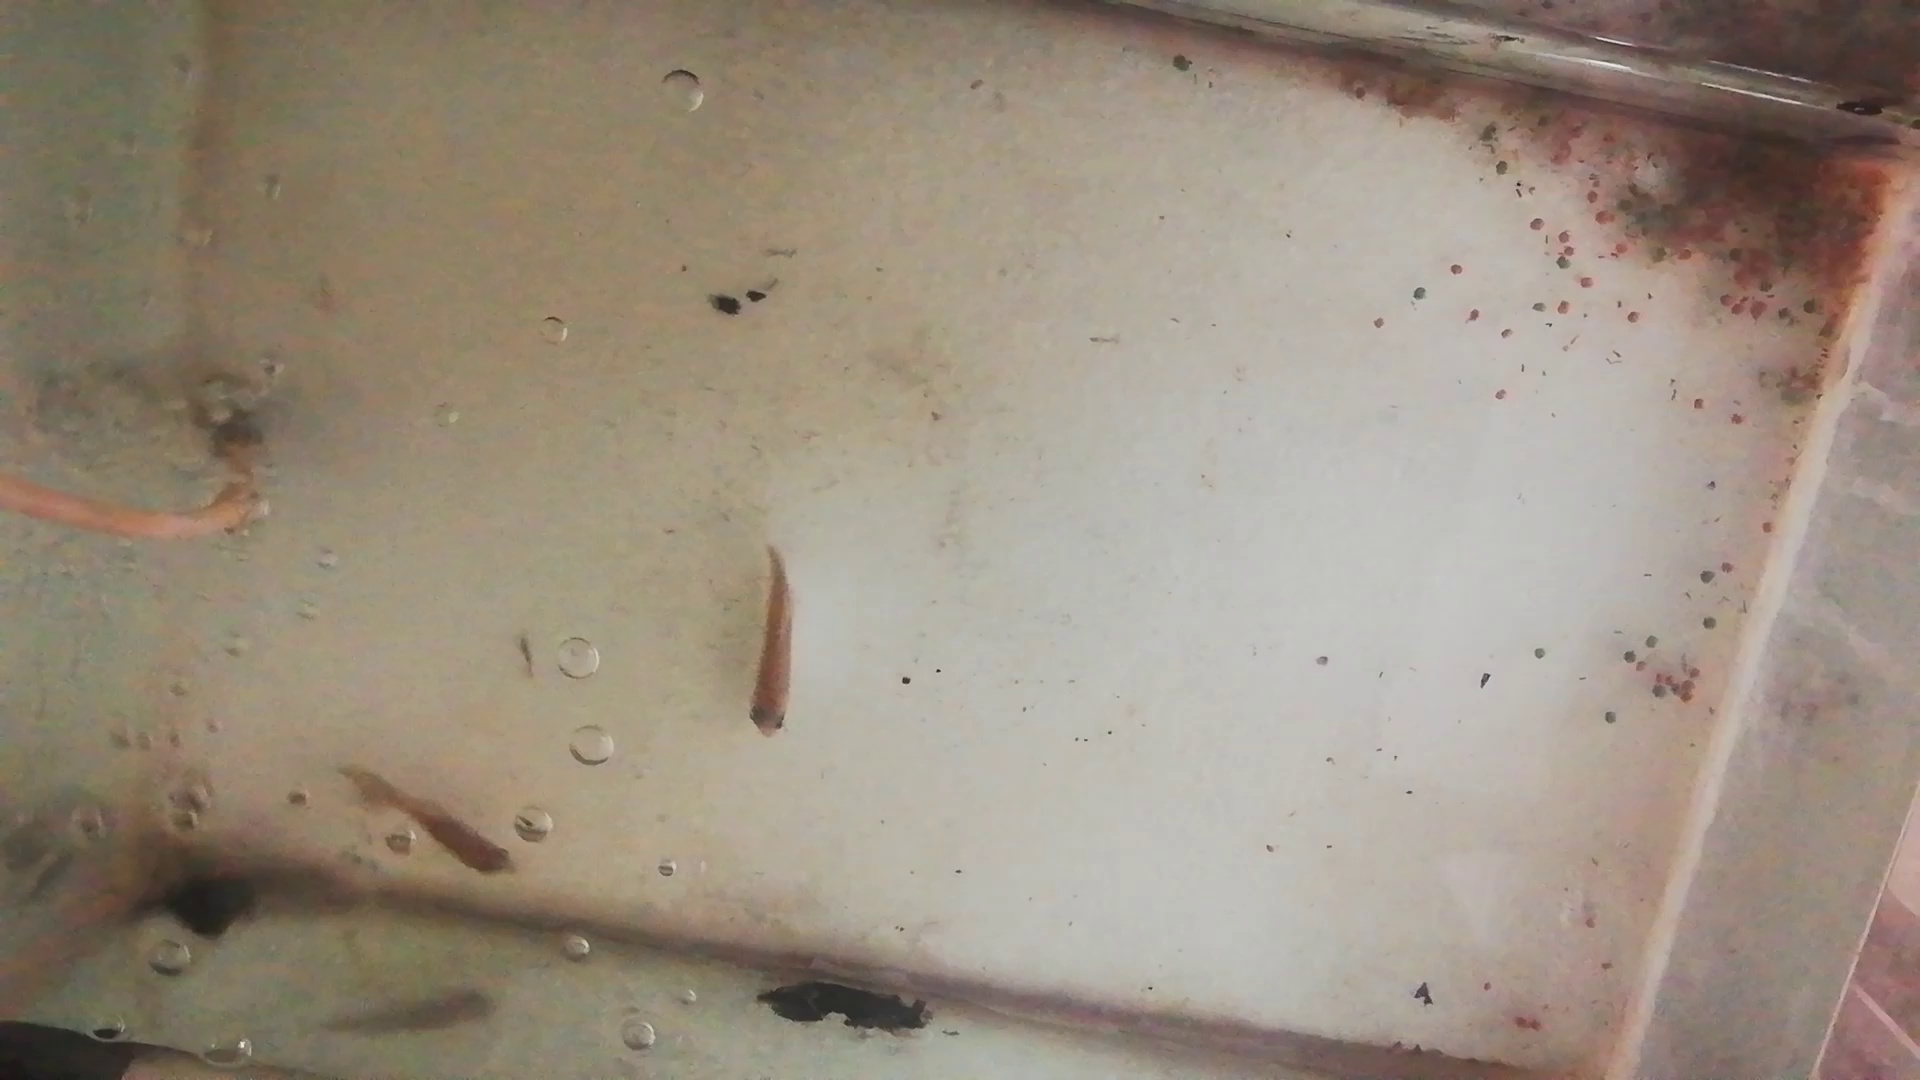fish: (336, 765, 517, 880), (746, 546, 800, 735)
